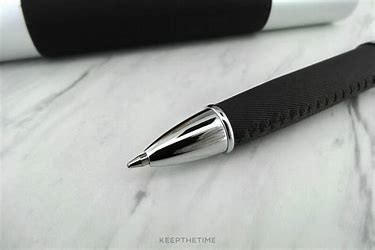pen: (113, 38, 375, 172)
